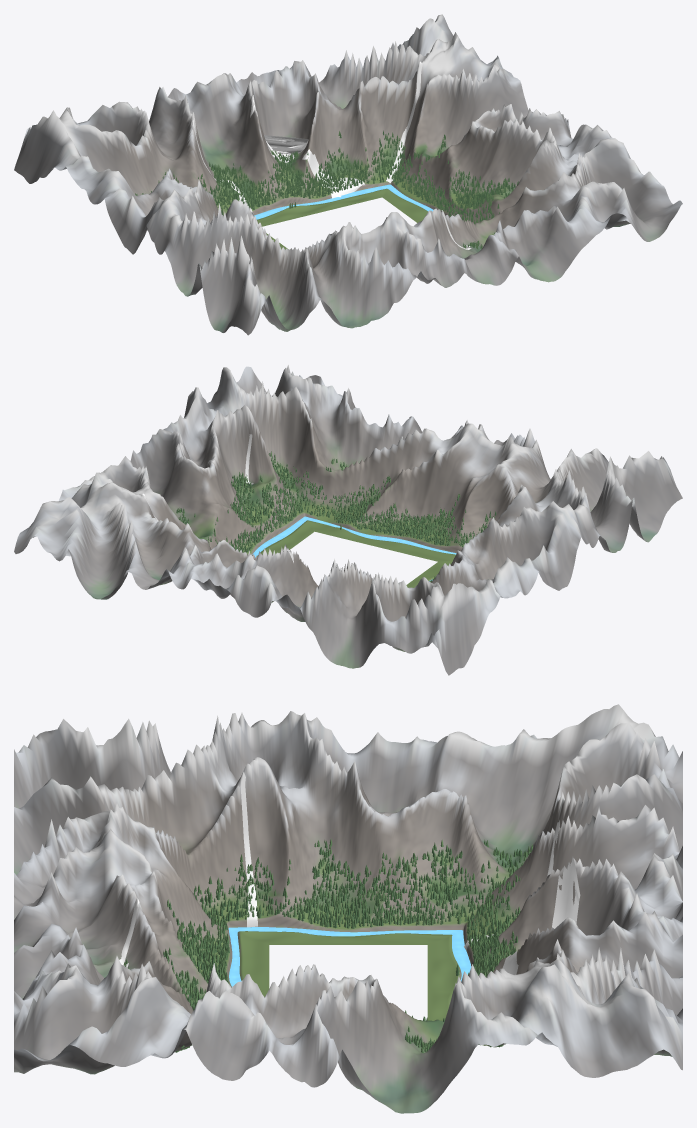
File: terrain.glb
3 views of the same model, one above another, from view 1: azimuth 30°, elevation 25°; view 2: azimuth 150°, elevation 25°; view 3: azimuth 270°, elevation 25° (orthographic). The views are drawn at different scales.
Parts seen in each view (by area): view 1: mountains, forest, waterfall, river; view 2: mountains, forest, river; view 3: mountains, forest, waterfall, river.
Boxes of the visible parts, box(x1,y1,x2,y2) form: mountains: box(14, 14, 682, 335); forest: box(135, 130, 518, 249); waterfall: box(192, 61, 472, 249); river: box(254, 184, 433, 219); mountains: box(14, 365, 682, 675); forest: box(176, 451, 496, 602); river: box(252, 516, 456, 581); mountains: box(14, 704, 682, 1113); forest: box(123, 838, 533, 1052); waterfall: box(119, 772, 580, 974); river: box(228, 927, 471, 986).
Size of the model in its own units: 1620 by 384 by 1520.
